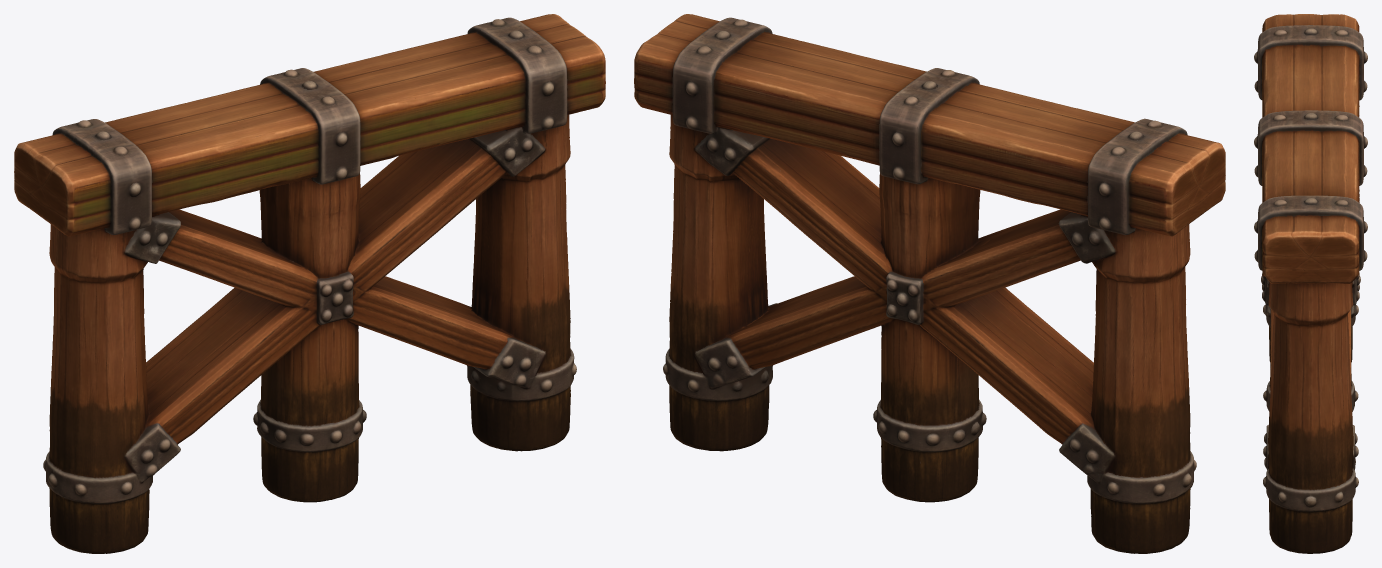
Rendered from bridge_pier.glb.
3 views of the same model, side by side, from view 1: azimuth 30°, elevation 25°; view 2: azimuth 150°, elevation 25°; view 3: azimuth 270°, elevation 25° (orthographic). The views are drawn at different scales.
Bounding box in the file's own units: 0.9992 × 0.7146 × 0.2177.
1 material, 1 textured.
